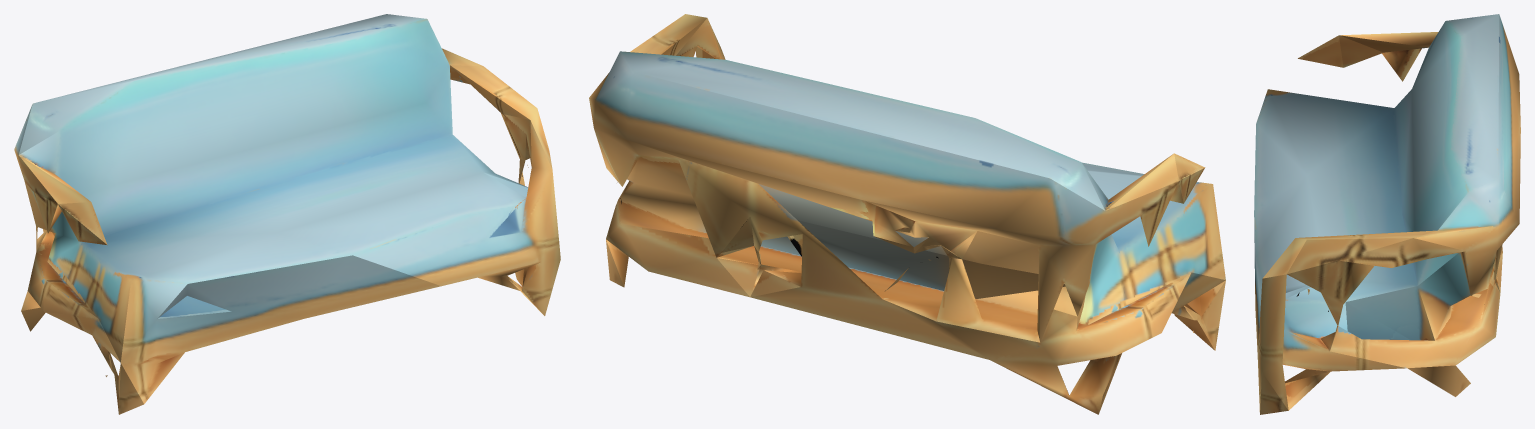
File: seavilla-aqua-sofa.glb
3 renders of one model, left to right at view 1: azimuth 30°, elevation 25°; view 2: azimuth 150°, elevation 25°; view 3: azimuth 270°, elevation 25°, orthographic. The views are drawn at different scales.
Parts seen in each view (by area): view 1: geometry_0.001; view 2: geometry_0.001; view 3: geometry_0.001.
Boxes of the visible parts, left/top/right/bottom form: geometry_0.001: left=14, top=14, right=560, bottom=414; geometry_0.001: left=589, top=14, right=1225, bottom=414; geometry_0.001: left=1254, top=14, right=1520, bottom=414.
Bounding box in the file's own units: 0.9972 × 0.4989 × 0.5151.
1 material, 1 textured.
